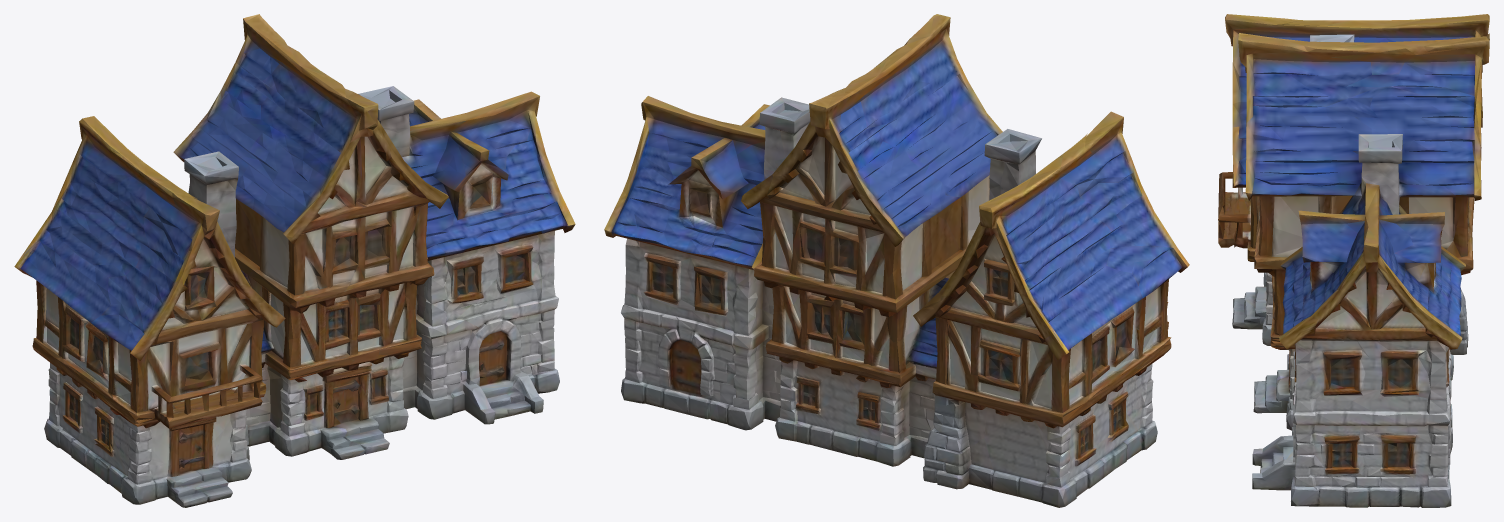
File: oc_townhouse_row.glb
The picture shows the model from 3 angles, left to right: view 1: azimuth 30°, elevation 25°; view 2: azimuth 150°, elevation 25°; view 3: azimuth 270°, elevation 25°; orthographic projection. The views are drawn at different scales.
Visible parts, largest first — view 1: W_city_townhouse_row_3; view 2: W_city_townhouse_row_3; view 3: W_city_townhouse_row_3.
Part boxes in pixels (x1,y1,x2,y2): W_city_townhouse_row_3: (14, 14, 575, 507); W_city_townhouse_row_3: (604, 14, 1189, 507); W_city_townhouse_row_3: (1218, 14, 1489, 507).
Bounding box in the file's own units: 16.5 × 11.87 × 8.03.
1 material, 1 textured.
